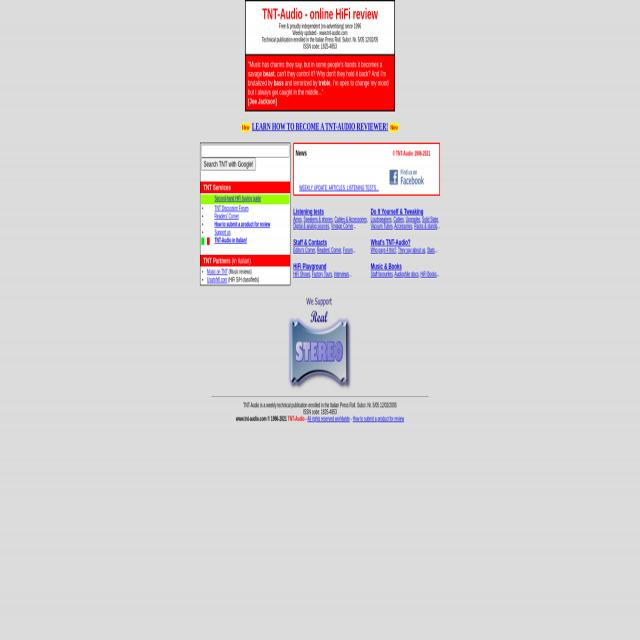button: (287, 295, 353, 391), (388, 168, 425, 187), (241, 122, 251, 133), (389, 122, 399, 133), (201, 237, 210, 245)
field: (201, 145, 289, 158), (201, 158, 256, 171)
